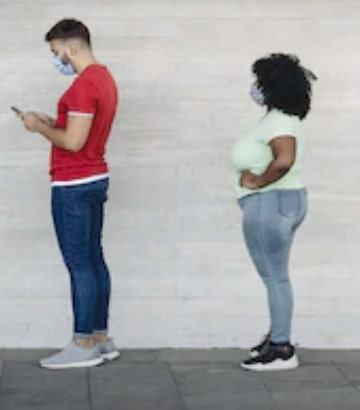Caution: (35, 16, 311, 371)
